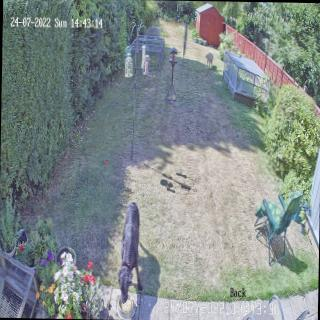dog: (116, 199, 144, 304), (204, 50, 214, 70)
